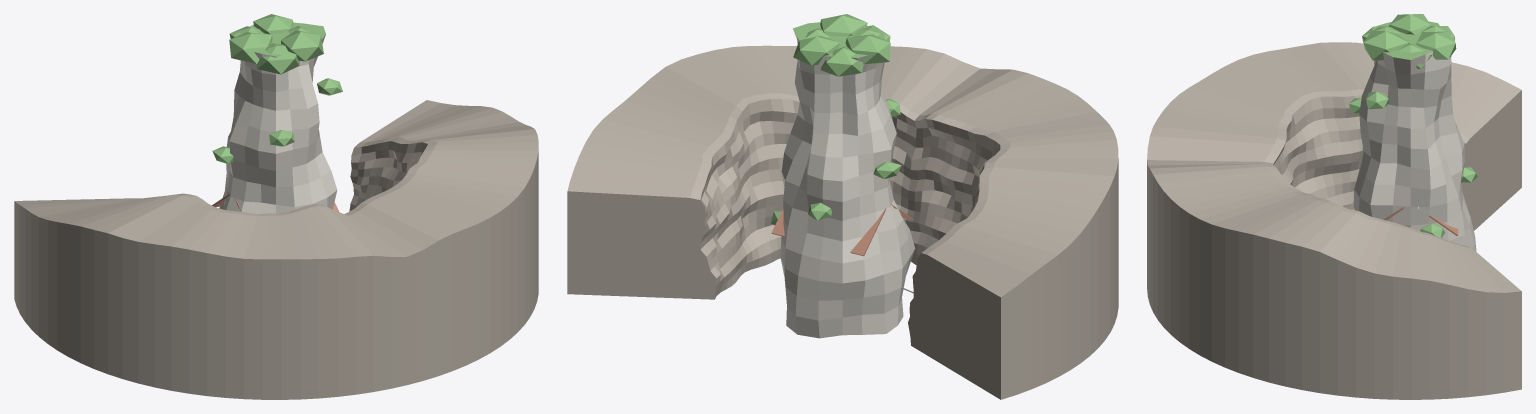
The model's file is assets.glb.
3 views of the same model, side by side, from view 1: azimuth 30°, elevation 25°; view 2: azimuth 150°, elevation 25°; view 3: azimuth 270°, elevation 25° (orthographic). The views are drawn at different scales.
Parts seen in each view (by area): view 1: Cliff, Karst; view 2: Cliff, Karst, House; view 3: Cliff, Karst.
Part boxes in pixels (x1,y1,x2,y2): Cliff: (14,100,538,399); Karst: (212,14,342,213); Cliff: (567,45,1118,399); Karst: (771,14,915,338); House: (771,204,913,256); Cliff: (1147,42,1521,399); Karst: (1349,14,1477,251).
Bounding box in the file's own units: 33.2 × 18.83 × 23.62.
